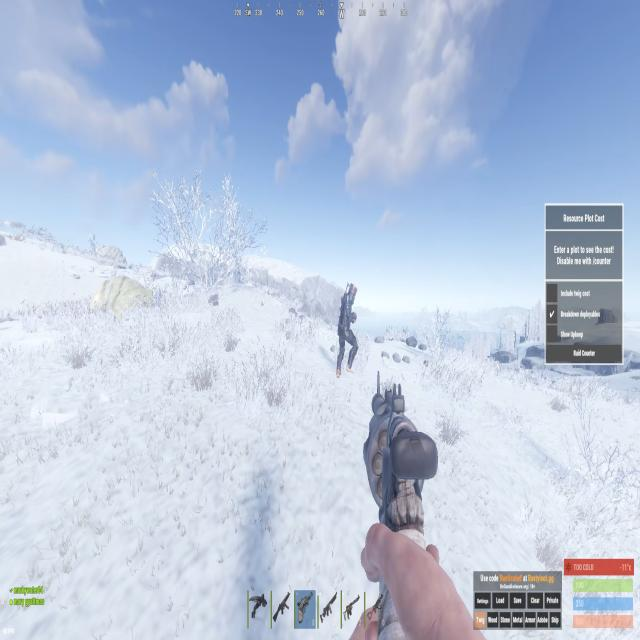Player: (336, 282, 359, 381)
